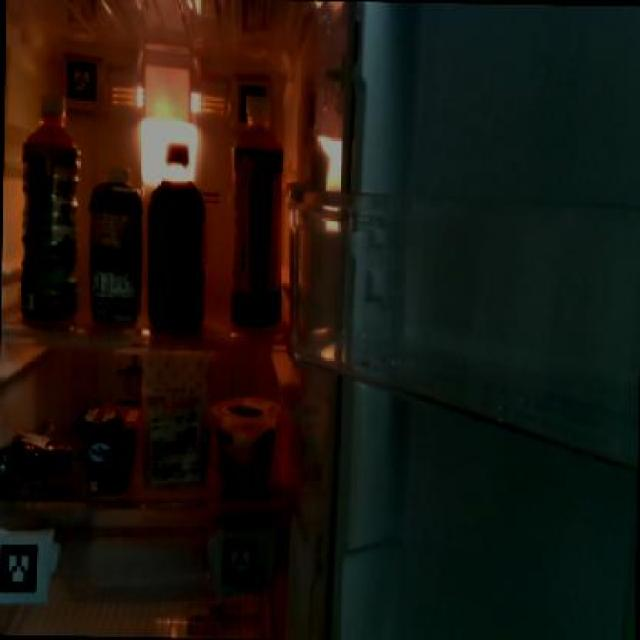coffee: (143, 140, 209, 325)
pudding: (210, 390, 279, 488)
rice_ball: (2, 418, 66, 488)
sandwich: (142, 352, 210, 492)
smoothie: (86, 161, 146, 324)
tea_a: (17, 94, 81, 321)
tea_i: (225, 123, 286, 334)
yogurt: (70, 397, 138, 497)
